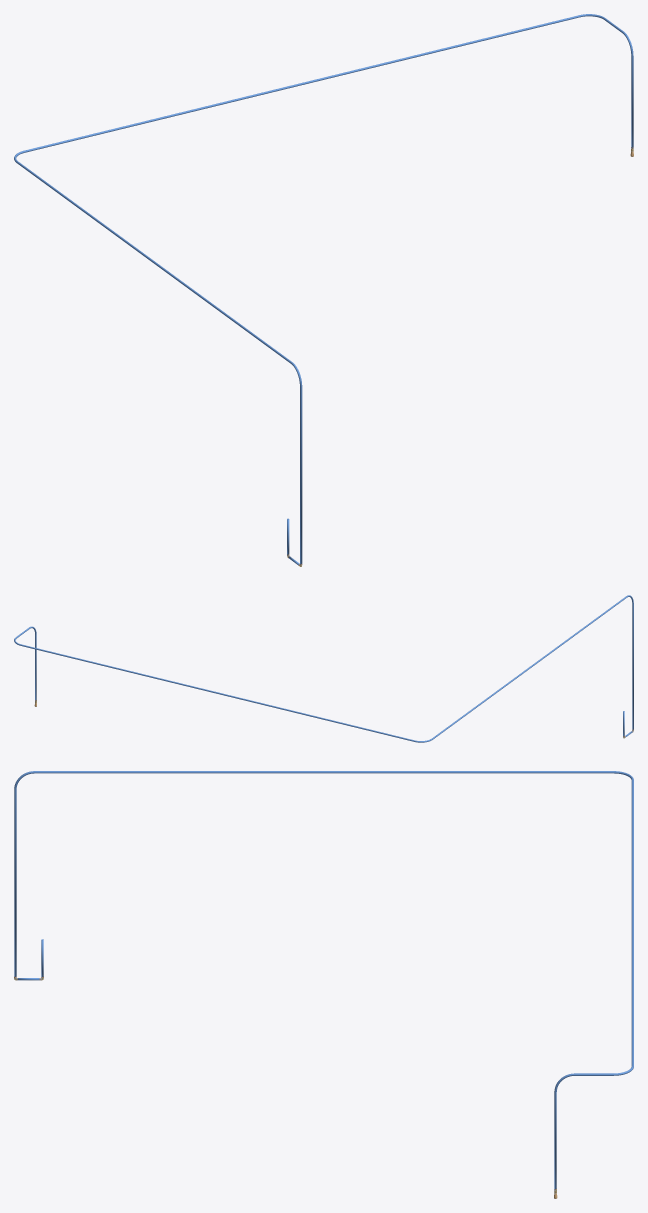
Rendered from slab_pipes_supply__water__6df7c921.glb.
The picture shows the model from 3 angles, top to bottom: view 1: azimuth 30°, elevation 25°; view 2: azimuth 150°, elevation 25°; view 3: azimuth 270°, elevation 25°; orthographic projection. The views are drawn at different scales.
Parts seen in each view (by area): view 1: pipe_supply_well_to_house__pex; view 2: pipe_supply_well_to_house__pex; view 3: pipe_supply_well_to_house__pex.
Part boxes in pixels (x1,y1,x2,y2): pipe_supply_well_to_house__pex: (14, 14, 633, 565); pipe_supply_well_to_house__pex: (14, 595, 633, 742); pipe_supply_well_to_house__pex: (14, 771, 633, 1190).
Bounding box in the file's own units: 6.61 × 2.12 × 5.7.
